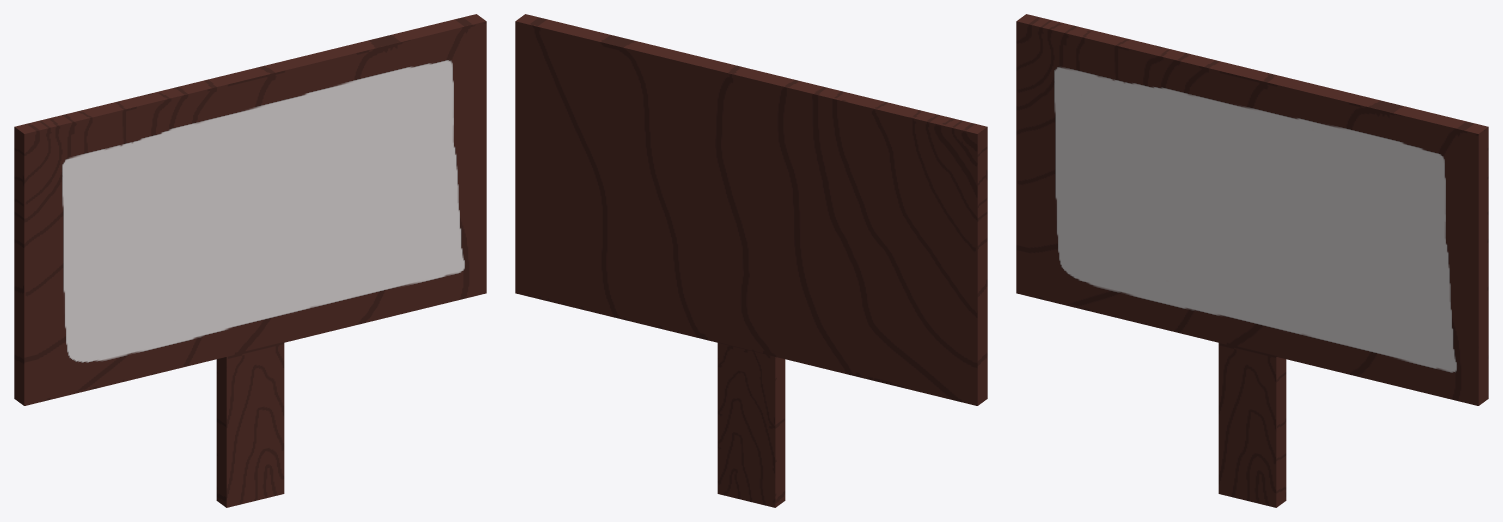
Rendered from signboard_002.fbx.
The picture shows the model from 3 angles, left to right: view 1: azimuth 30°, elevation 25°; view 2: azimuth 150°, elevation 25°; view 3: azimuth 330°, elevation 25°; orthographic projection.
Visible parts, largest first — view 1: Cube; view 2: Cube; view 3: Cube.
Part boxes in pixels (x1,y1,x2,y2): Cube: [14, 14, 486, 507]; Cube: [515, 14, 987, 507]; Cube: [1016, 14, 1488, 507].
Size of the model in its own units: 1600 by 1400 by 60.
1 material, 1 textured.
